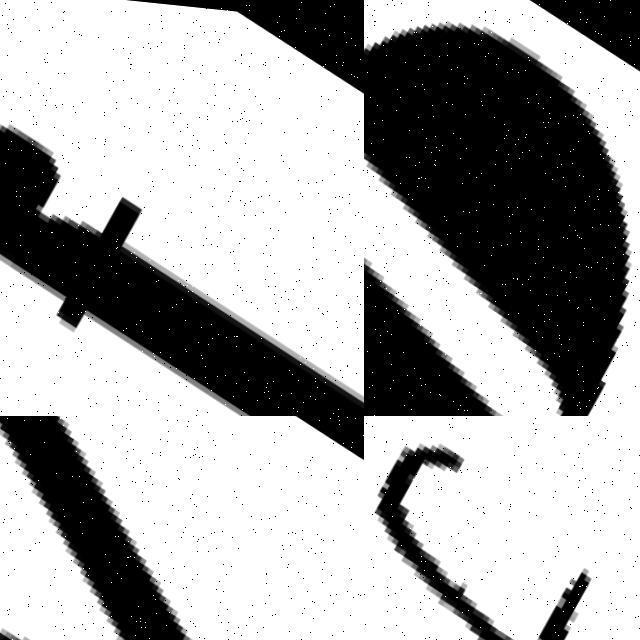F: (0, 86, 364, 416), (372, 442, 517, 640)
O: (364, 20, 630, 416)
Y: (0, 416, 364, 640)
